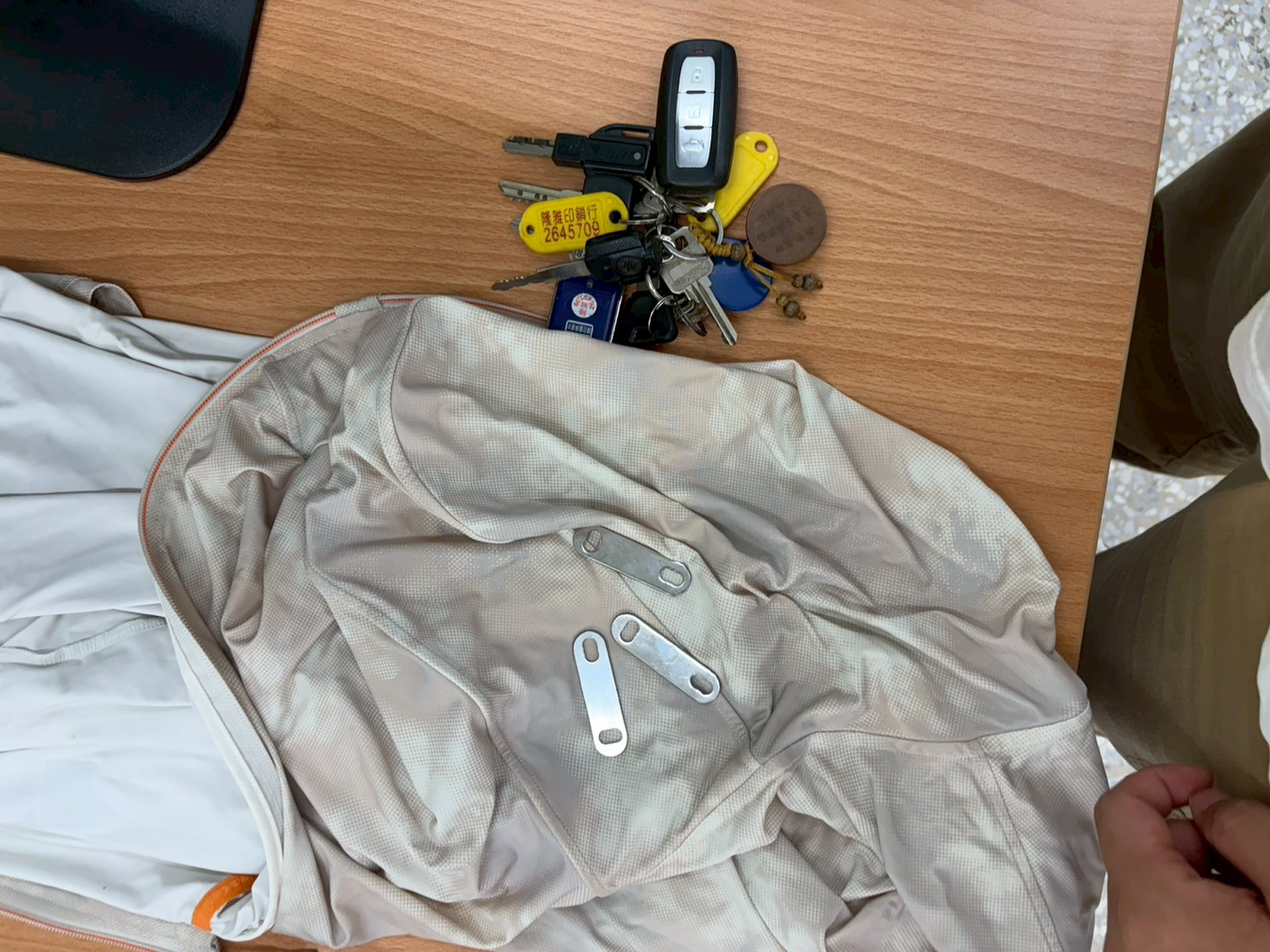Fe: (611, 609, 719, 700), (573, 520, 695, 595), (569, 626, 631, 756), (605, 634, 640, 762), (567, 548, 602, 676), (570, 635, 605, 763)
